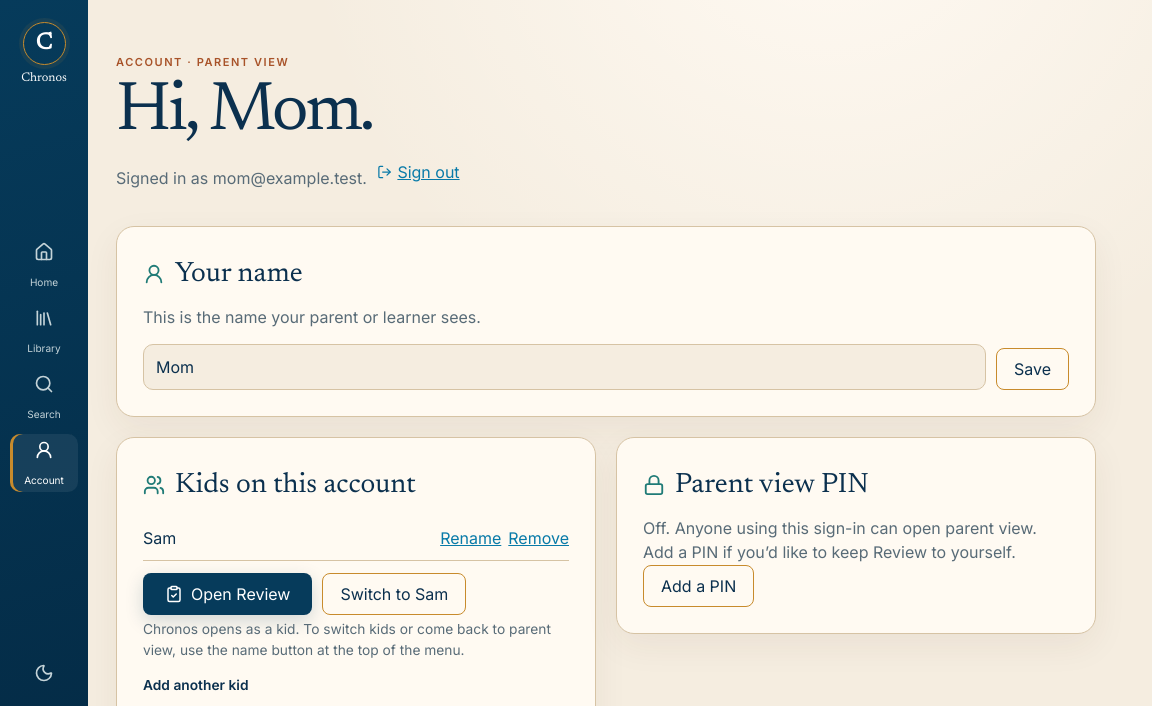
Test: Account setup and shared accounts › lets the parent add, change and turn off an optional parent-view PIN
This screenshot has width=1152, height=706.
Expected: the text "Off." is shown, [643,518,1037,562]
Click the button "Add a PIN" at (699, 586), box [643,565,754,607]
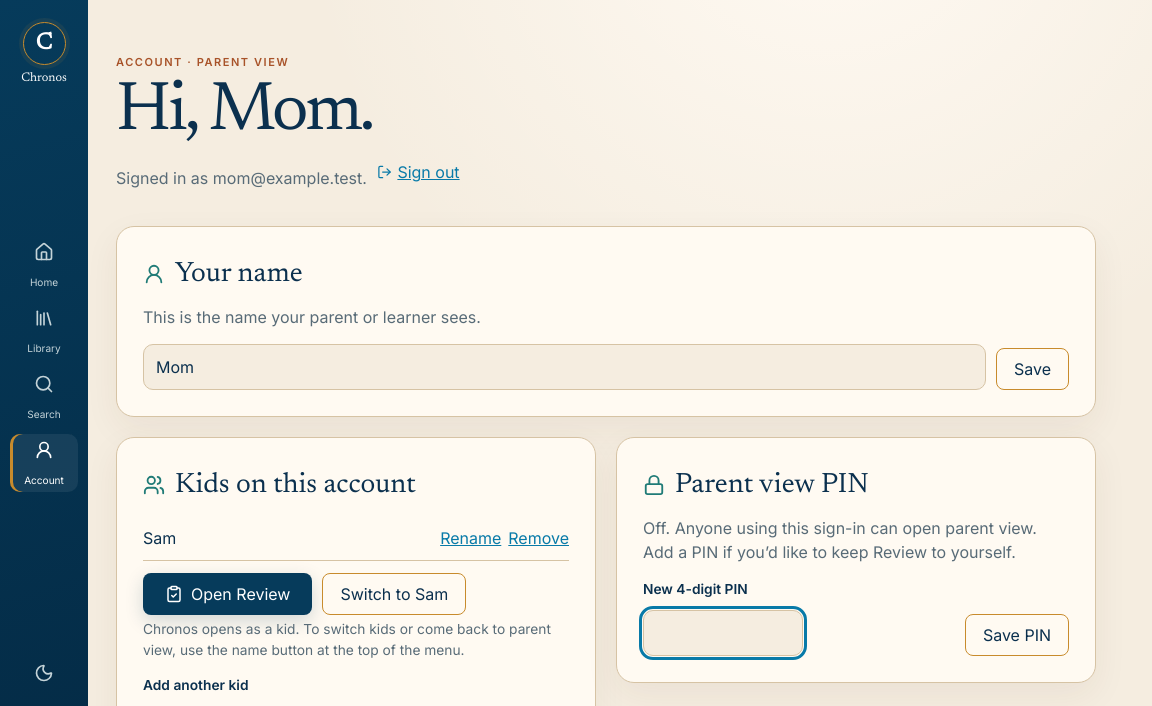
Type "24a68" into the field labelled "New 4-digit PIN" at (723, 633), box [643,610,803,656]
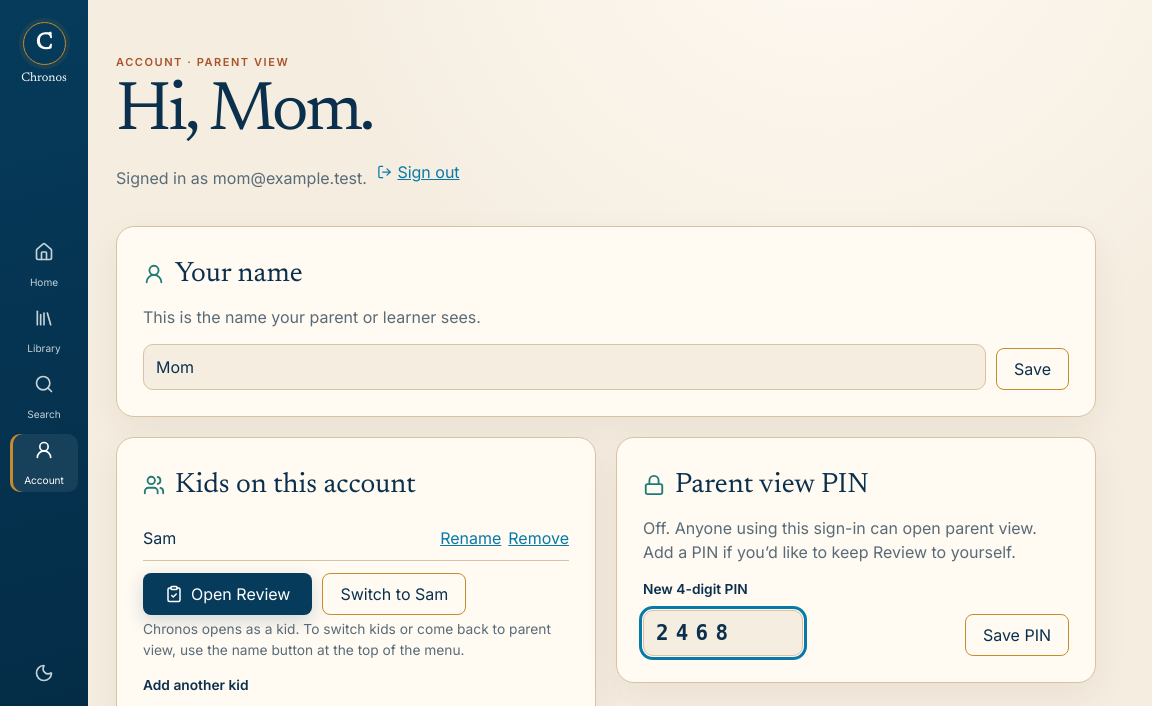
Now the field labelled "New 4-digit PIN" holds "2468", box [643,610,803,656]
Click the button "Save PIN" at (1017, 635), box [965,614,1069,656]
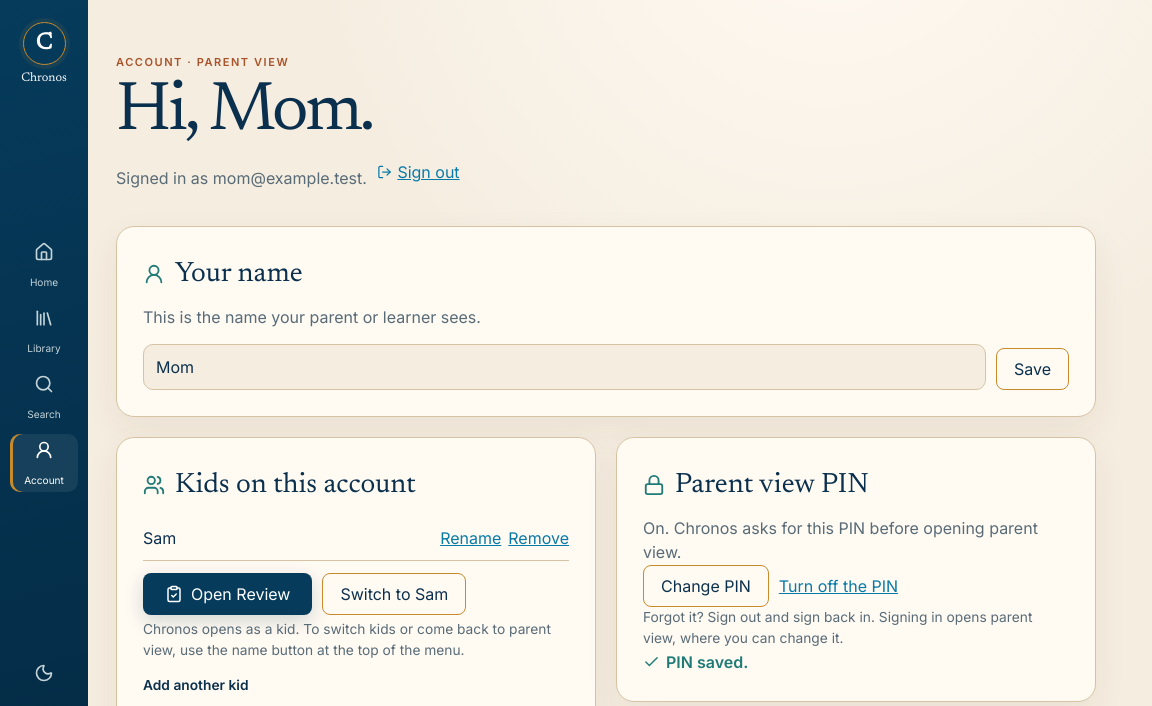
Now the text "On. Chronos asks for this PIN before opening parent view." is shown, box [643,516,1069,565]
Click the button "Turn off the PIN" at (838, 586), box [779,565,898,607]
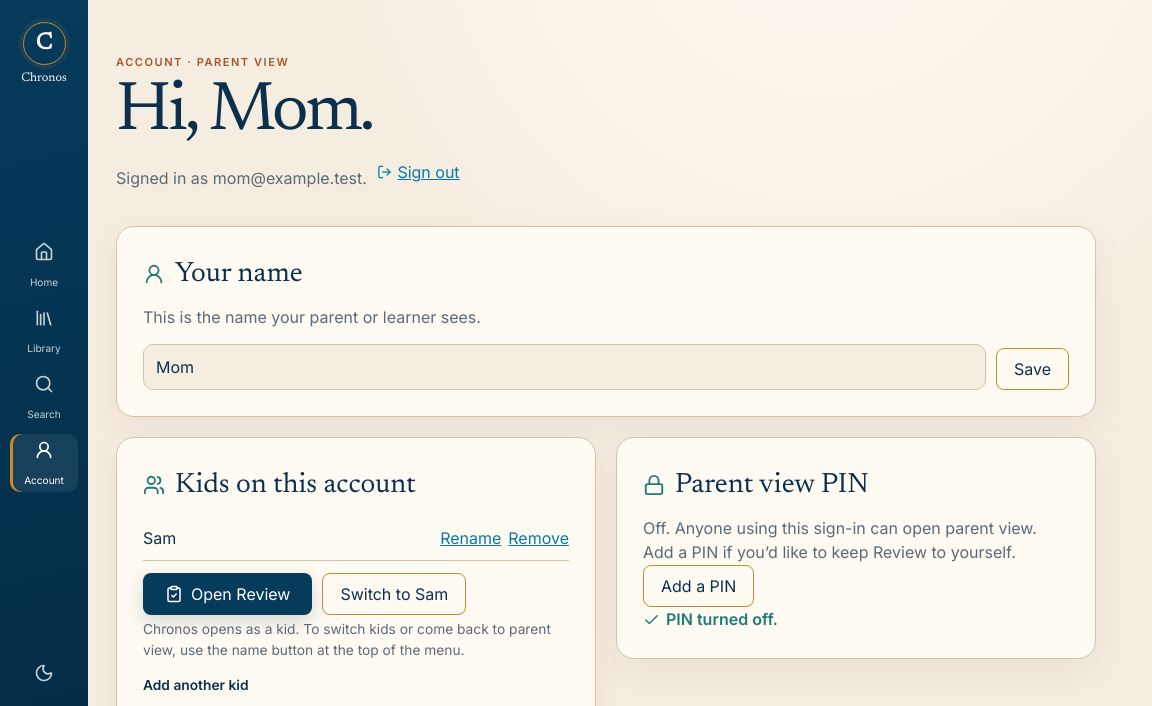
Now the text "Off." is shown, box [643,518,1037,562]
